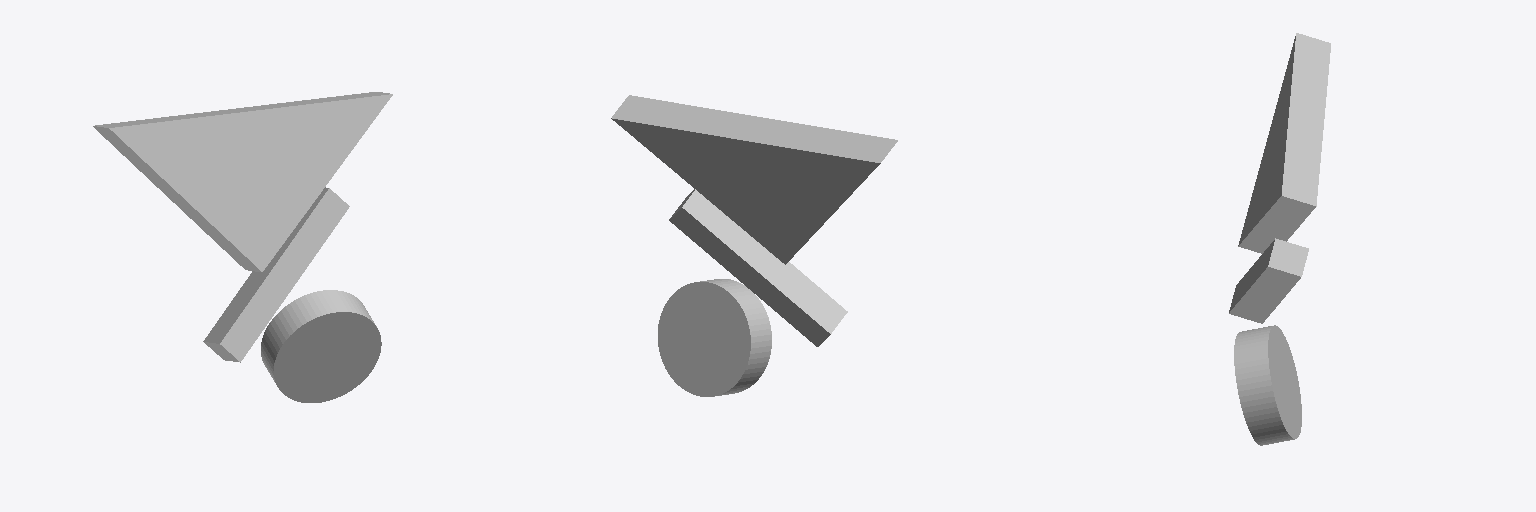
File: YLabs.obj
3 views of the same model, side by side, from view 1: azimuth 30°, elevation 25°; view 2: azimuth 150°, elevation 25°; view 3: azimuth 270°, elevation 25° (orthographic).
Visible parts, largest first — view 1: Plane.003, Plane, Plane.002; view 2: Plane.003, Plane, Plane.002; view 3: Plane.003, Plane, Plane.002.
Part boxes in pixels (left/top/right/bottom): Plane.003: left=93, top=92, right=392, bottom=271; Plane: left=261, top=290, right=381, bottom=402; Plane.002: left=203, top=187, right=349, bottom=362; Plane.003: left=611, top=95, right=897, bottom=264; Plane: left=658, top=279, right=771, bottom=396; Plane.002: left=669, top=189, right=847, bottom=346; Plane.003: left=1238, top=33, right=1330, bottom=253; Plane: left=1234, top=325, right=1301, bottom=445; Plane.002: left=1229, top=238, right=1308, bottom=323.
Size of the model in its own units: 0.1444 by 0.1547 by 0.0463.